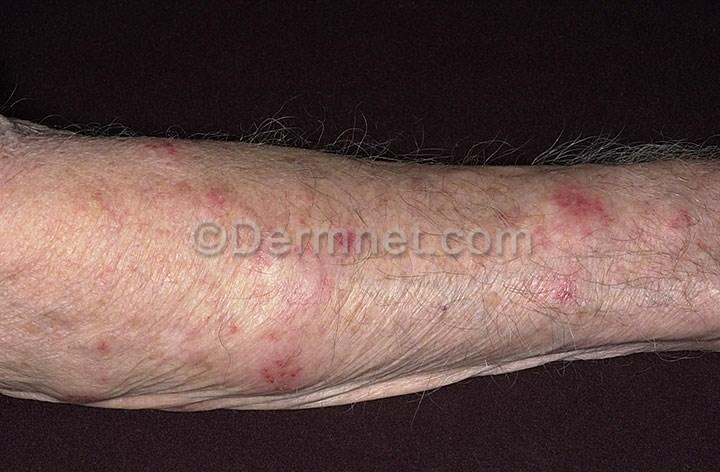Eczema: (183, 171, 269, 243), (235, 335, 317, 407), (33, 360, 120, 422), (544, 180, 613, 229), (316, 223, 377, 278), (655, 188, 713, 232), (545, 274, 593, 314)
